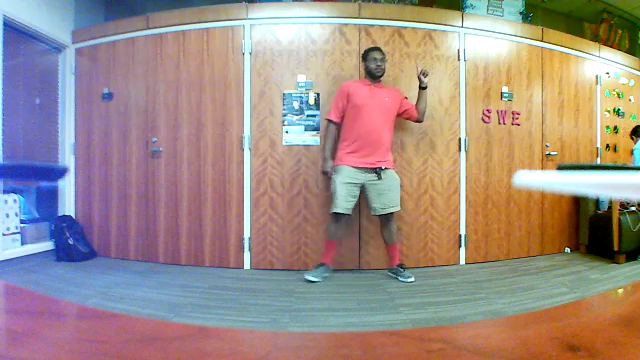up: (414, 60, 431, 88)
